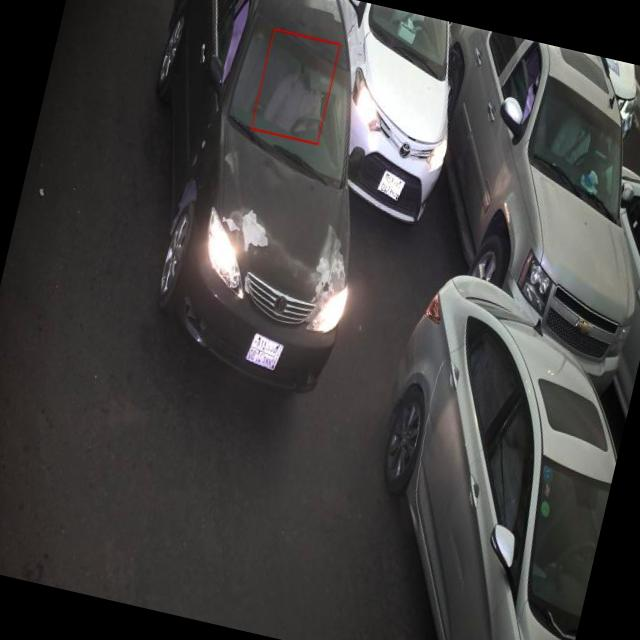person_without_seatbelt: (255, 35, 338, 138)
